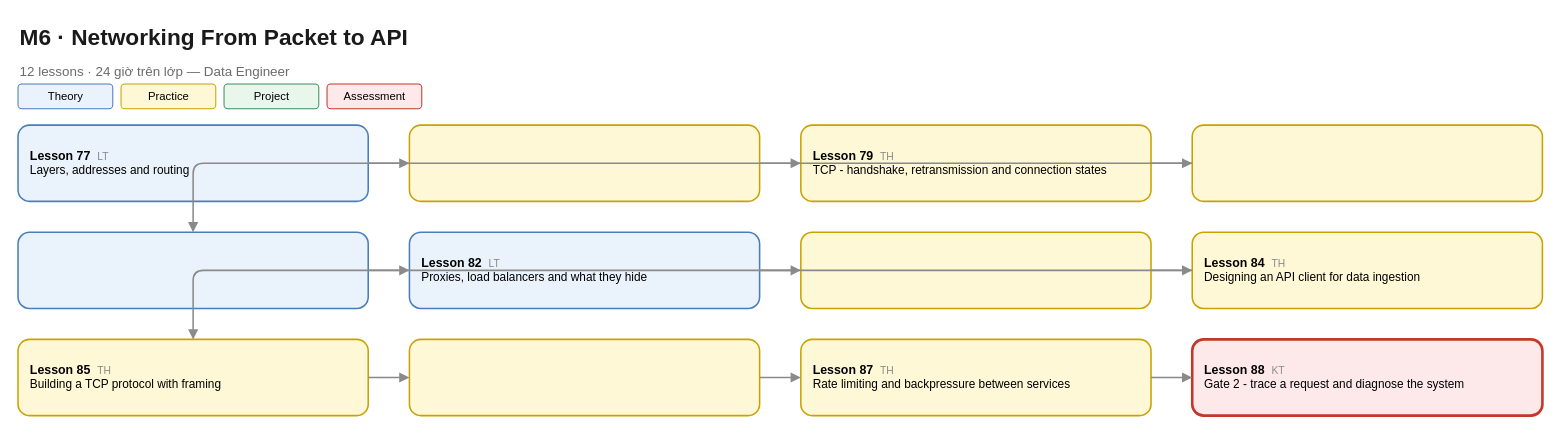
Some shapes in this 1561 by 435 pixel diagram are drawn without their labels. Here are the shapes that lost their labels. From the top down, the centre of each, then its label:
At point (584, 163): "Lesson 78 TH DNS - resolution, caching and stale records".
At point (1367, 163): "Lesson 80 TH TLS - certificates, verification and the handshake cost".
At point (193, 270): "Lesson 81 LT HTTP semantics - methods, status, idempotency and caching".
At point (975, 270): "Lesson 83 TH Timeout budgets, retries and connection pools".
At point (584, 377): "Lesson 86 TH Diagnosing latency across the whole path".
